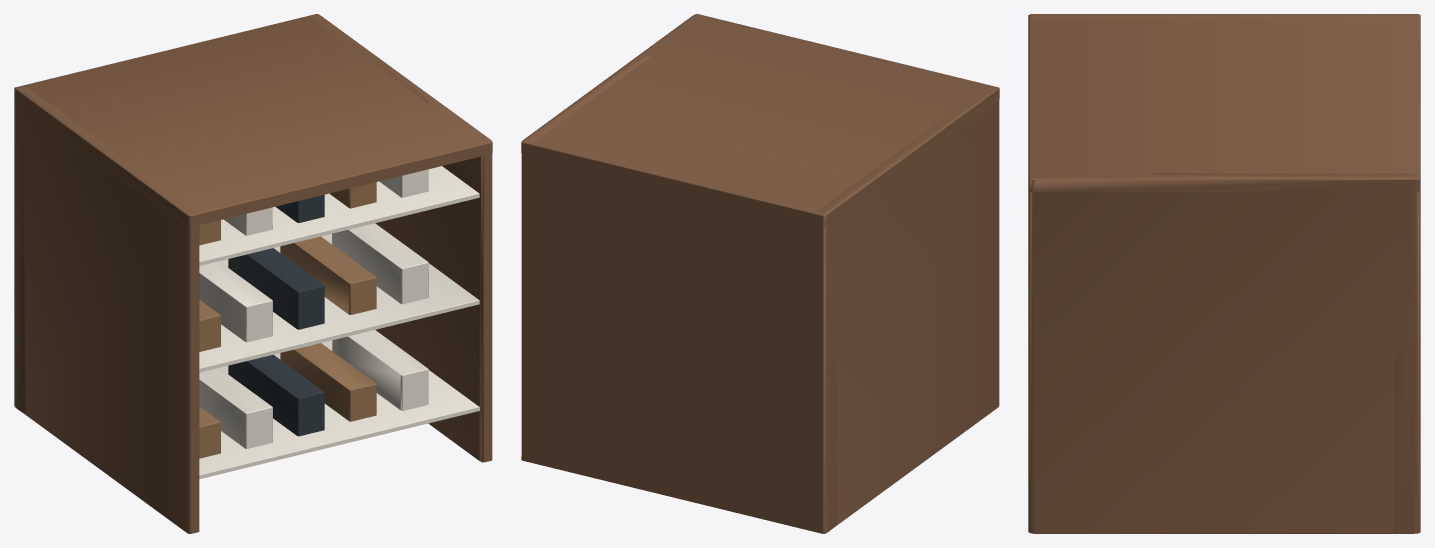
The model's file is shelf-17-3.lod.glb.
3 renders of one model, left to right at view 1: azimuth 30°, elevation 25°; view 2: azimuth 150°, elevation 25°; view 3: azimuth 270°, elevation 25°, orthographic. The views are drawn at different scales.
Parts seen in each view (by area): view 1: upholstery (×2), book (×2); view 2: upholstery; view 3: upholstery.
Boxes of the visible parts, box(x1,y1,x2,y2) form: upholstery (×2): box(14, 14, 492, 533); book (×2): box(199, 182, 376, 458); upholstery: box(521, 14, 999, 533); upholstery: box(1028, 14, 1420, 533).
Bounding box in the file's own units: 1 × 1 × 1.
